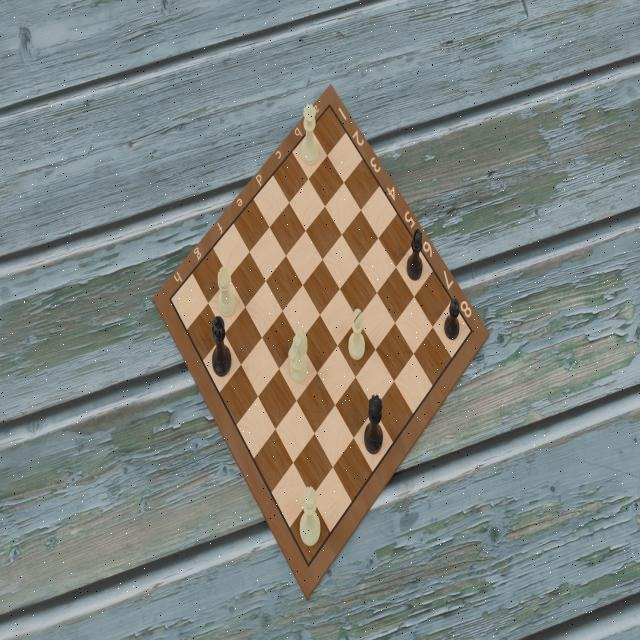black-bishop: (405, 224, 427, 283)
black-king: (210, 315, 232, 381)
black-pawn: (444, 293, 464, 343)
black-queen: (363, 395, 385, 458)
white-bishop: (347, 306, 368, 366)
white-king: (299, 480, 323, 551)
white-knight: (288, 328, 309, 387)
white-queen: (299, 101, 321, 168)
white-rook: (217, 265, 239, 321)
